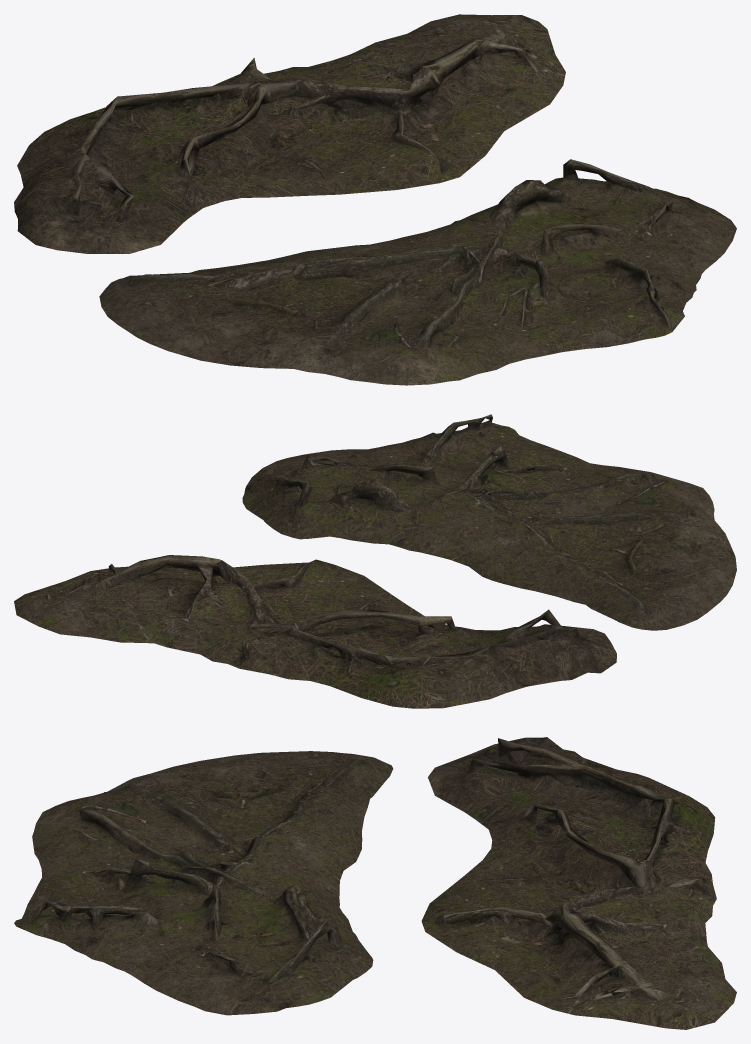
File: pine_roots.glb
The picture shows the model from 3 angles, top to bottom: view 1: azimuth 30°, elevation 25°; view 2: azimuth 150°, elevation 25°; view 3: azimuth 270°, elevation 25°; orthographic projection. The views are drawn at different scales.
Parts seen in each view (by area): view 1: pine_roots_b, pine_roots_a; view 2: pine_roots_b, pine_roots_a; view 3: pine_roots_b, pine_roots_a.
Boxes of the visible parts, box(x1,y1,x2,y2) form: pine_roots_b: box(99, 159, 736, 385); pine_roots_a: box(14, 14, 565, 253); pine_roots_b: box(242, 414, 736, 630); pine_roots_a: box(14, 555, 616, 708); pine_roots_b: box(14, 751, 393, 1015); pine_roots_a: box(421, 737, 736, 1029).
Bounding box in the file's own units: 1.77 × 0.1503 × 1.89.
2 materials, 2 textured.
